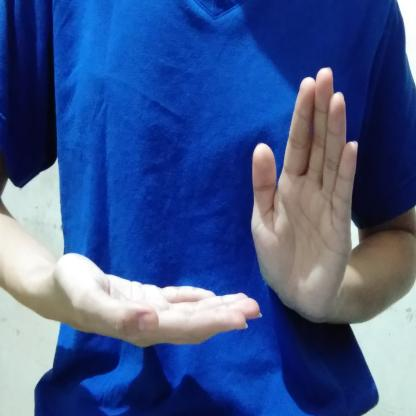hello: (46, 62, 379, 352)
